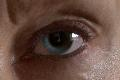eye: (44, 31, 72, 53)
